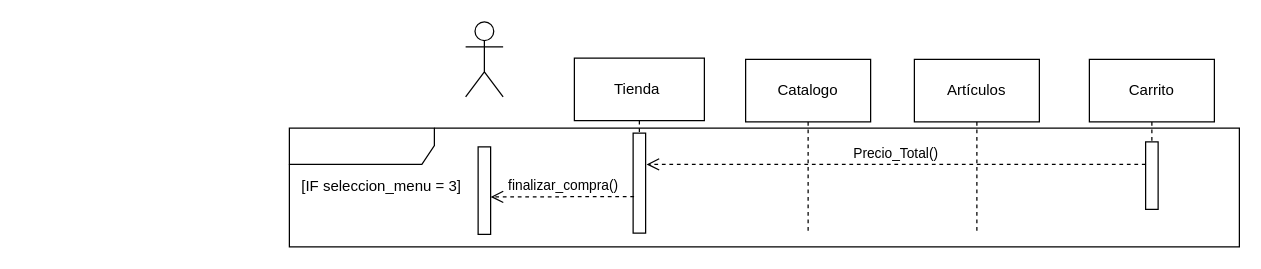
Some shapes in this 1261 by 269 pixel diagram are drawn without their labels. Here are the shapes that lost their labels. From the top down, the centre of each, then its label:
At [483,59]: "Actor".
At [763,187]: "Redireccionador".
